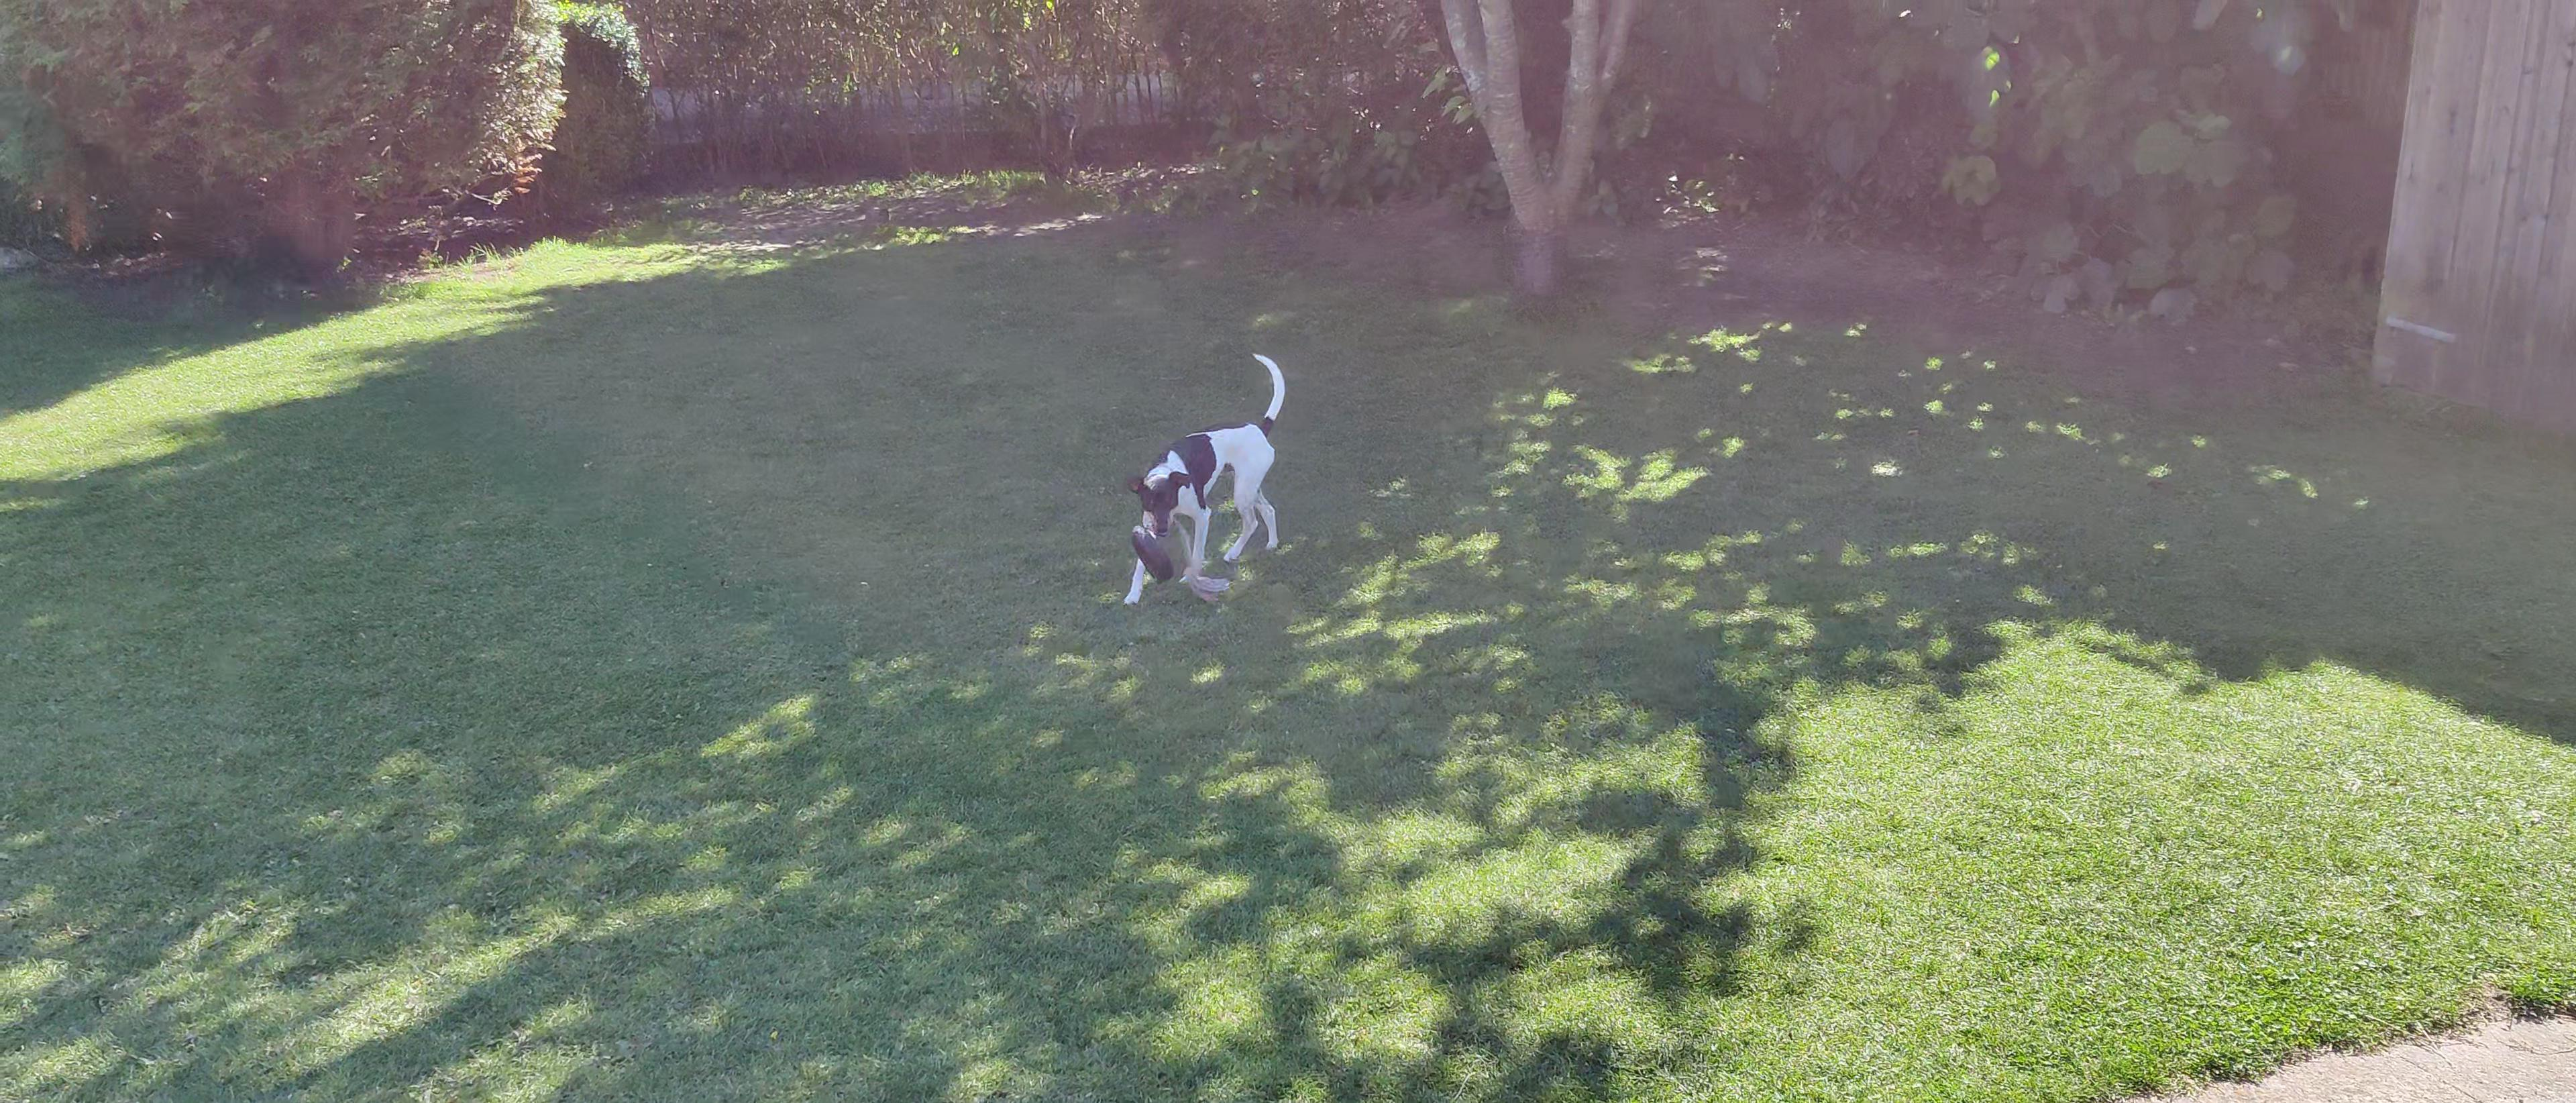Dog: (1104, 350, 1290, 610)
